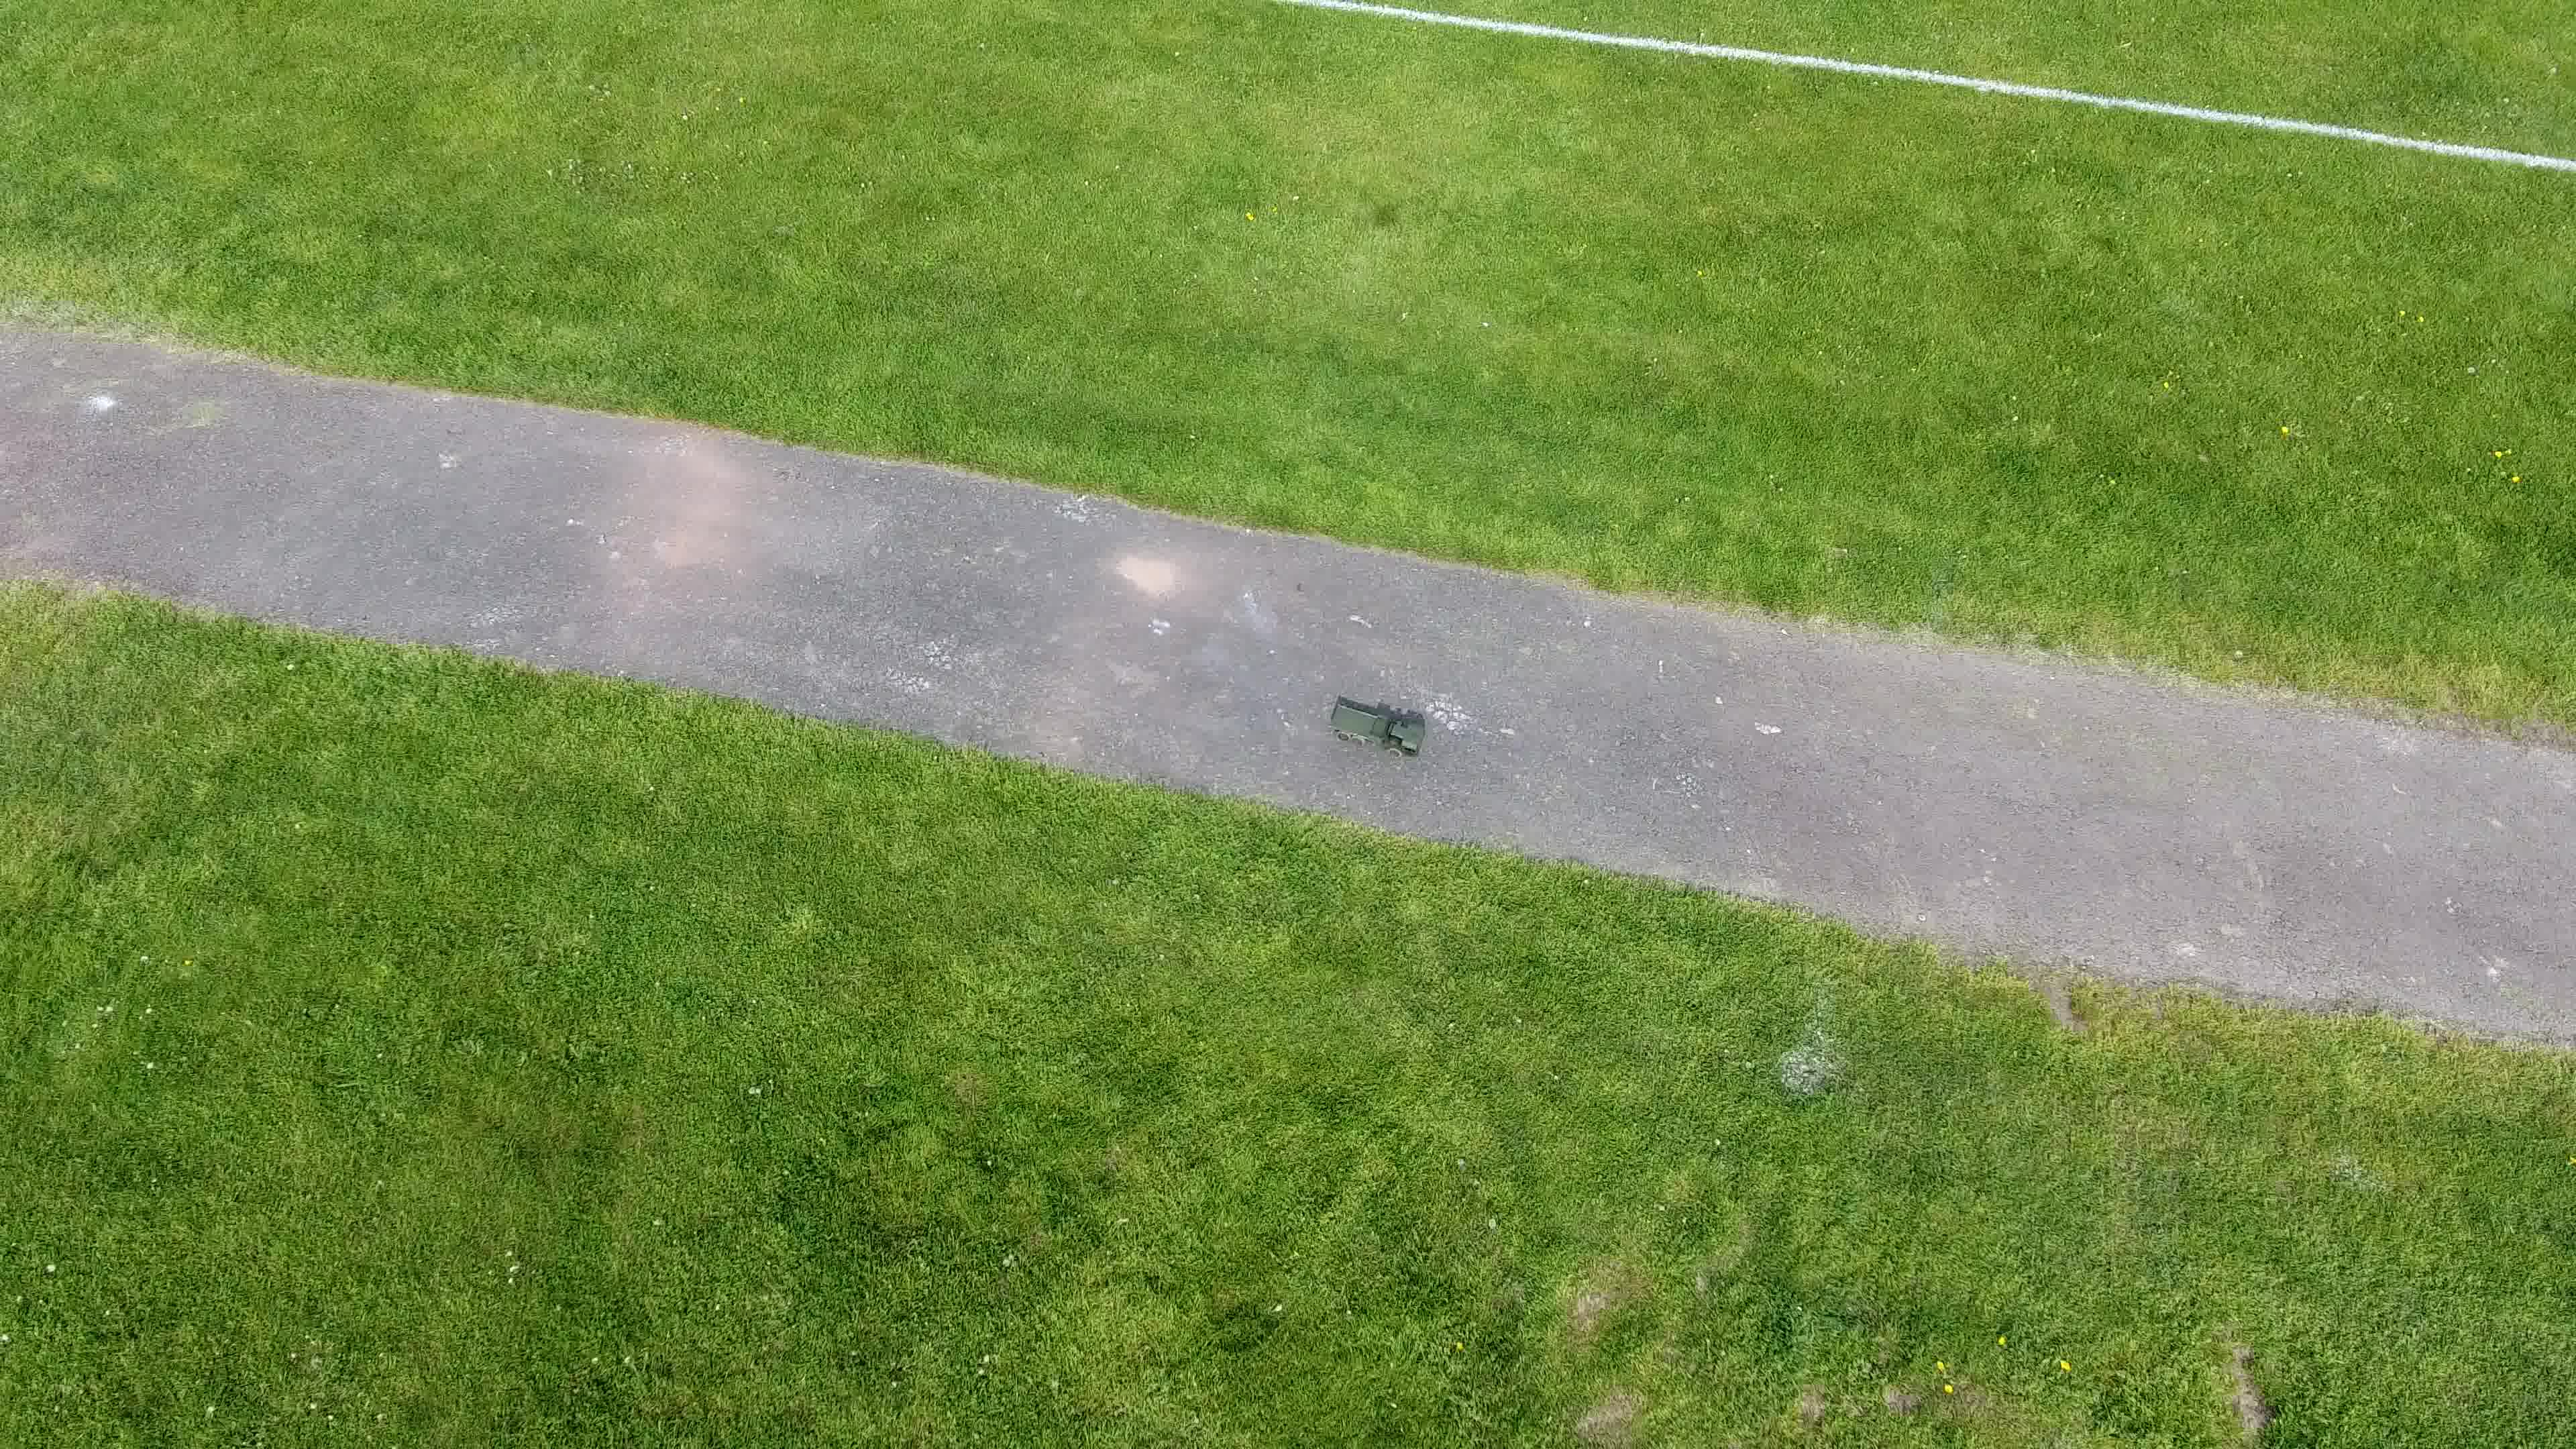transporter9: (1323, 699, 1433, 763)
